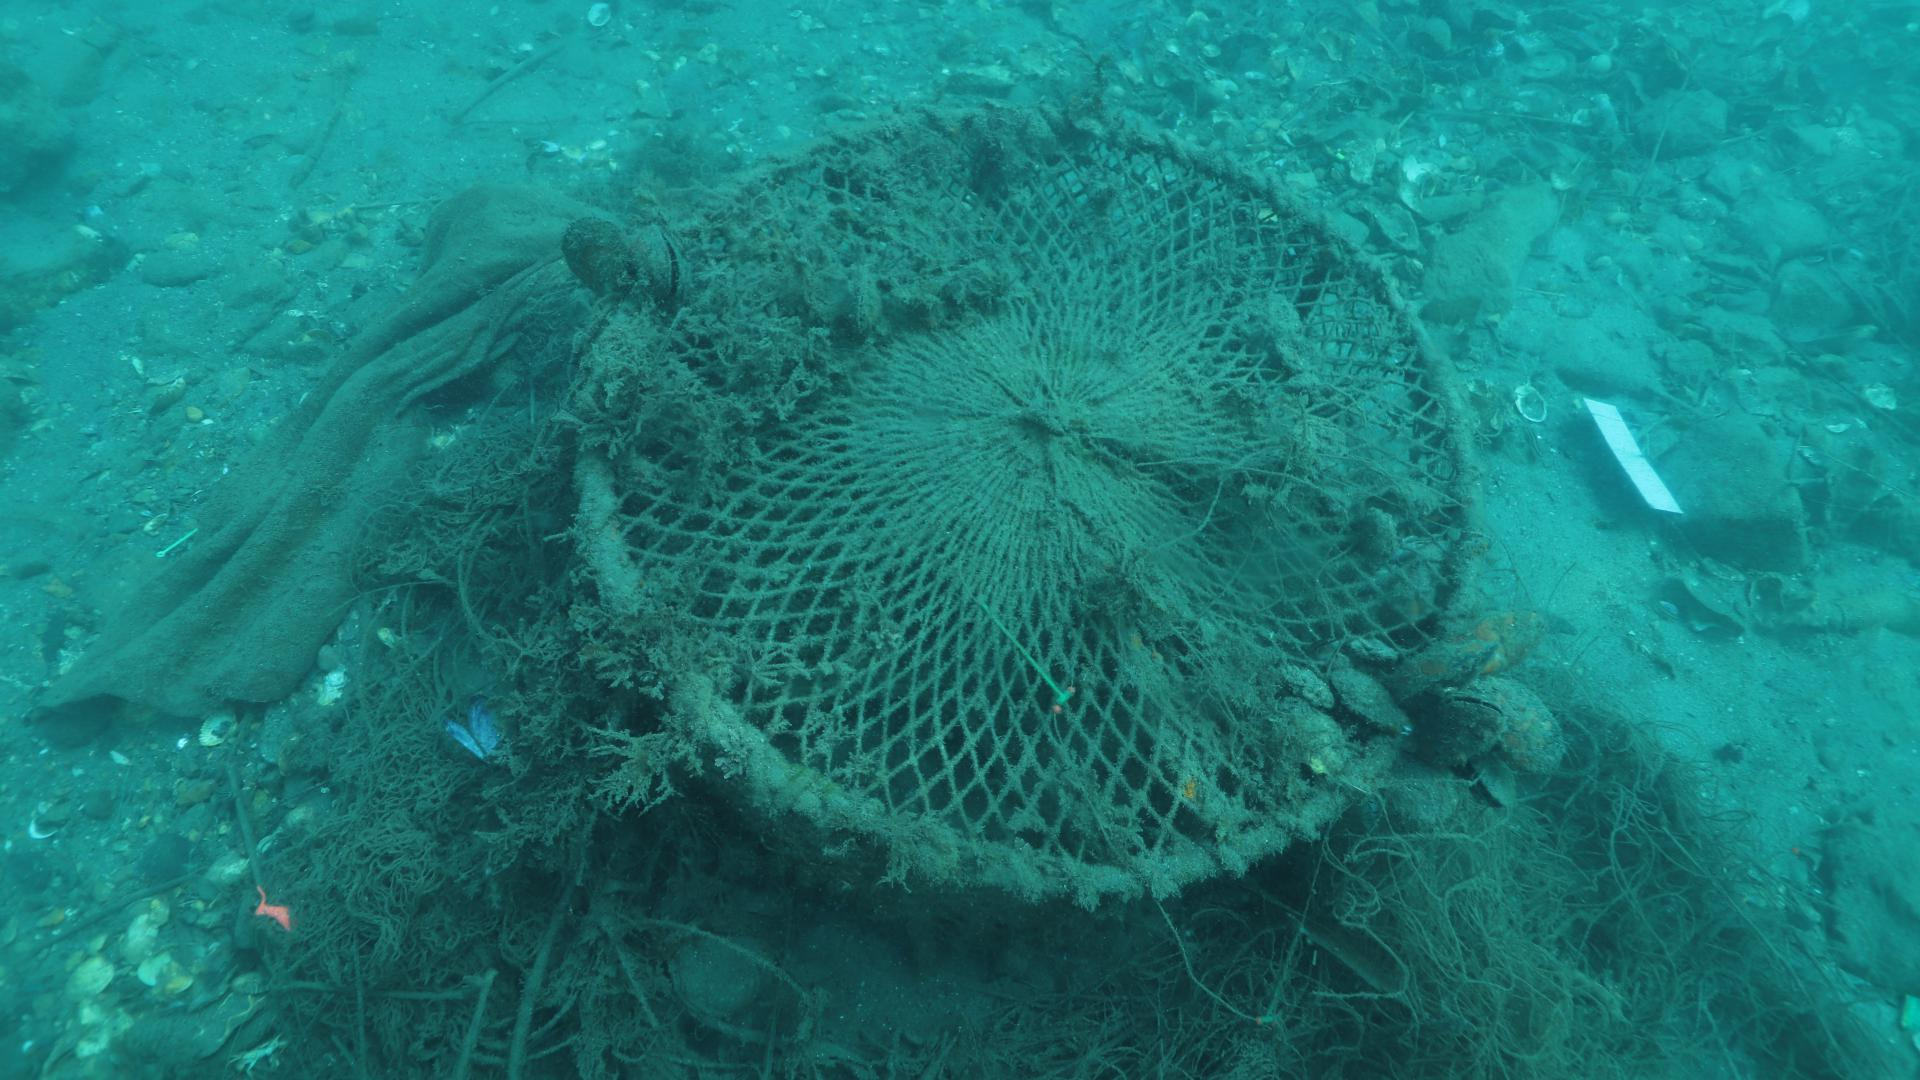circular fish trap: (550, 95, 1501, 913)
